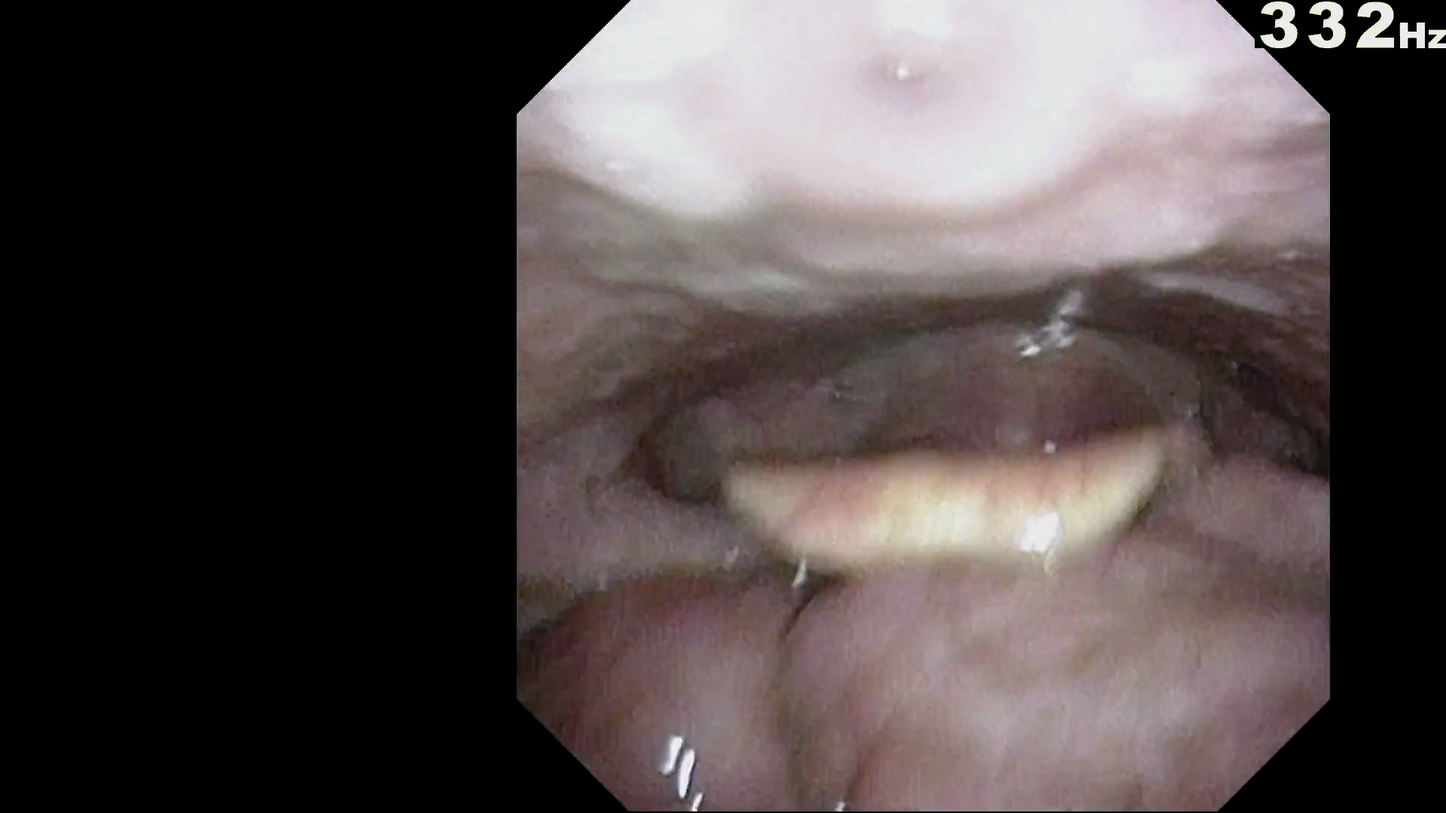epiglottis: (719, 533, 1261, 672)
trachea: (967, 484, 1107, 580)
